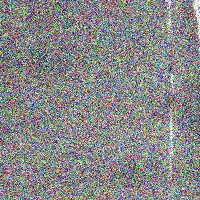scratches: (165, 61, 180, 185), (164, 1, 177, 46)
